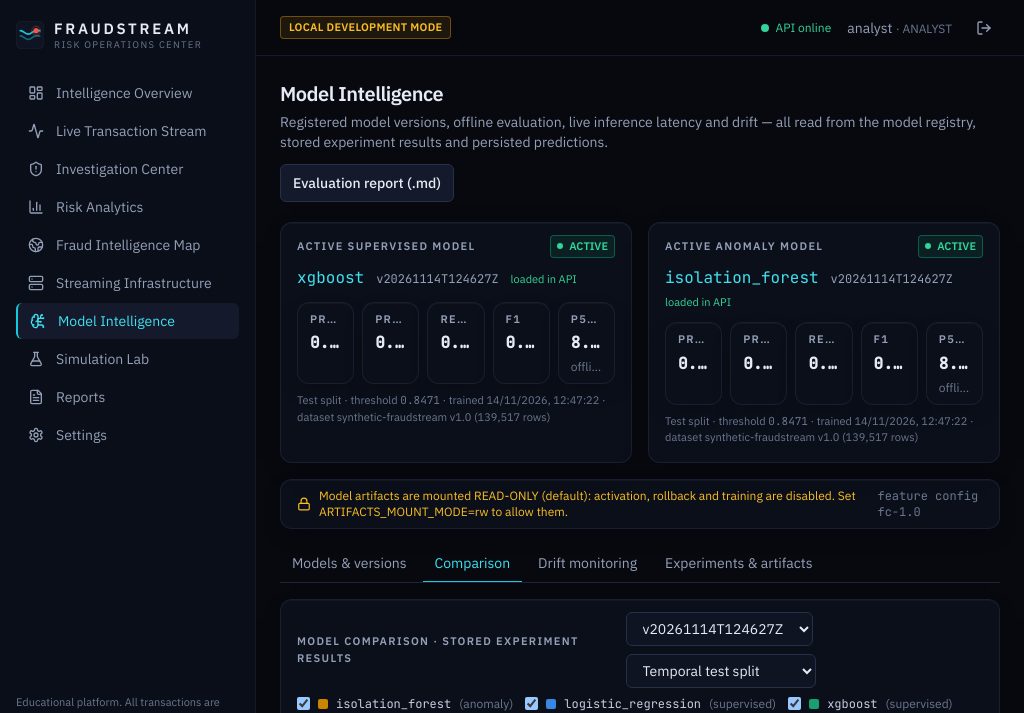
Test: Model Intelligence page › compares models from stored experiment results; toggles and split change work
Step 1. Click the checkbox with test id "compare-toggle-isolation_forest" → (304, 704), box [297,697,310,710]
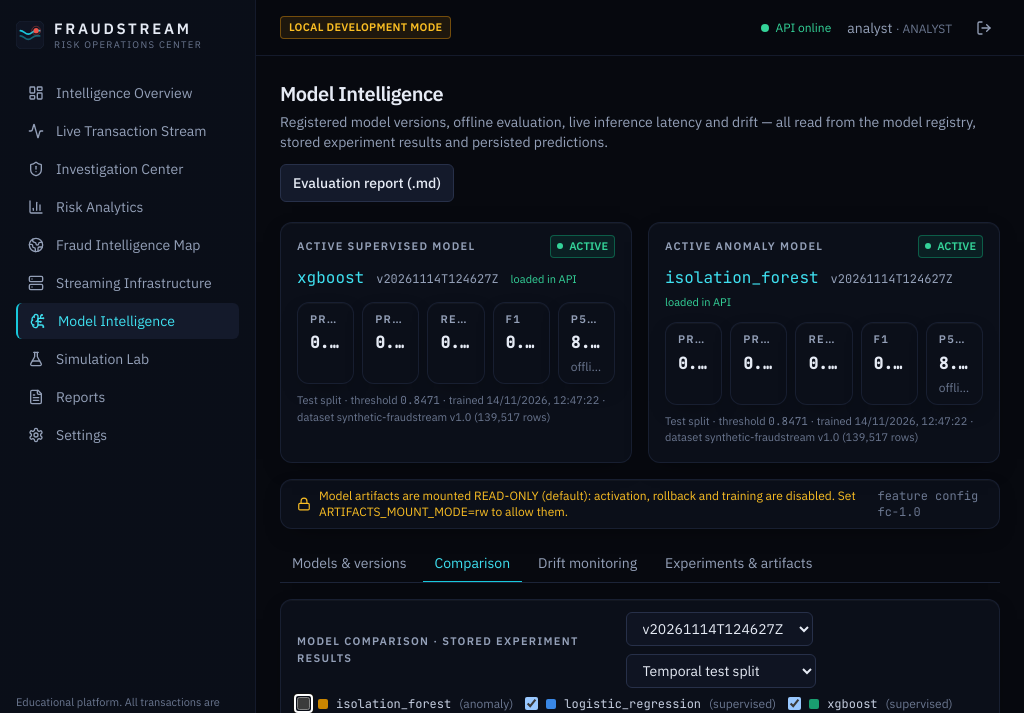
Step 2. Select "Unseen-customer split" in the dropdown with test id "compare-split" → (720, 670), box [626,654,816,688]
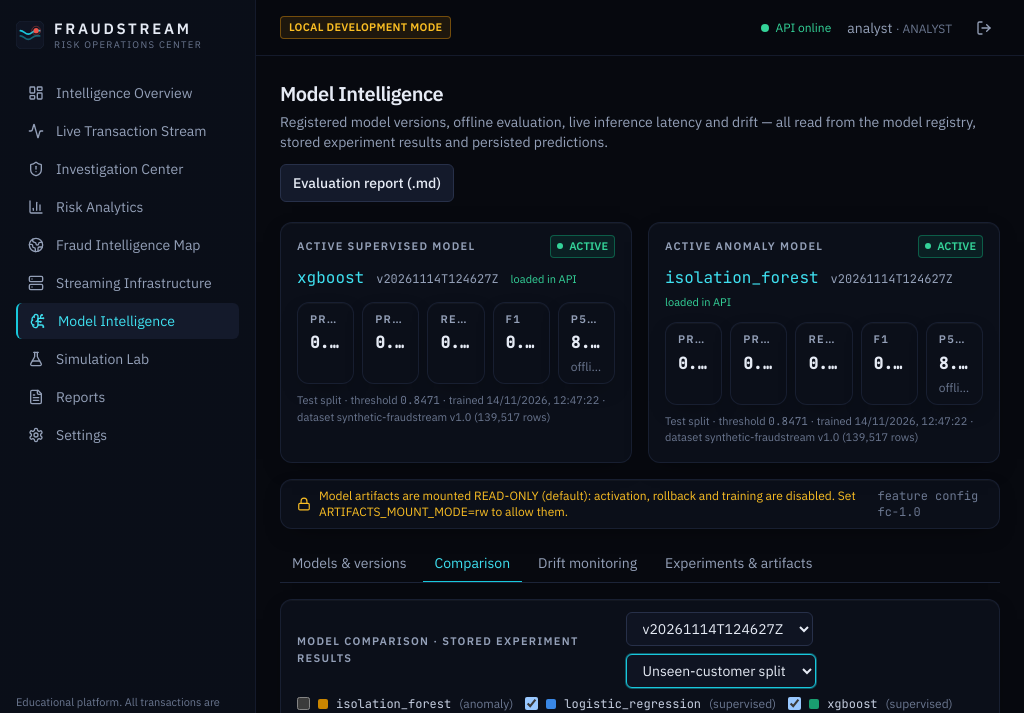
Step 3. Click the checkbox with test id "compare-toggle-xgboost" → (795, 704), box [788,697,801,710]
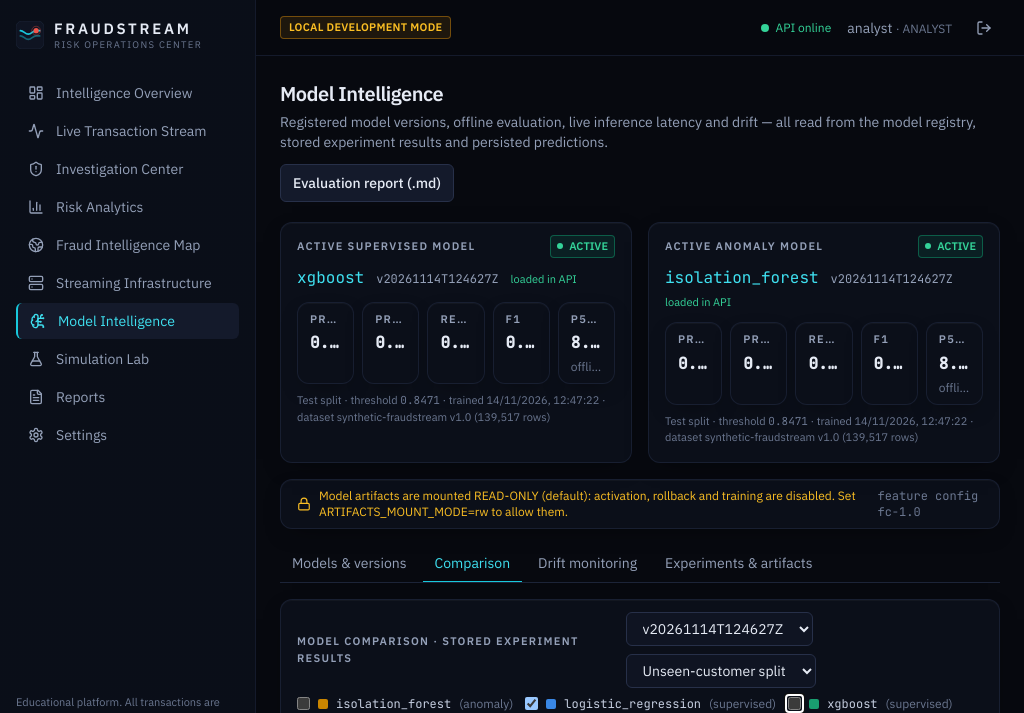
Step 4. Click the checkbox with test id "compare-toggle-logistic_regression" → (532, 704), box [525,697,538,710]
(page scrolled)
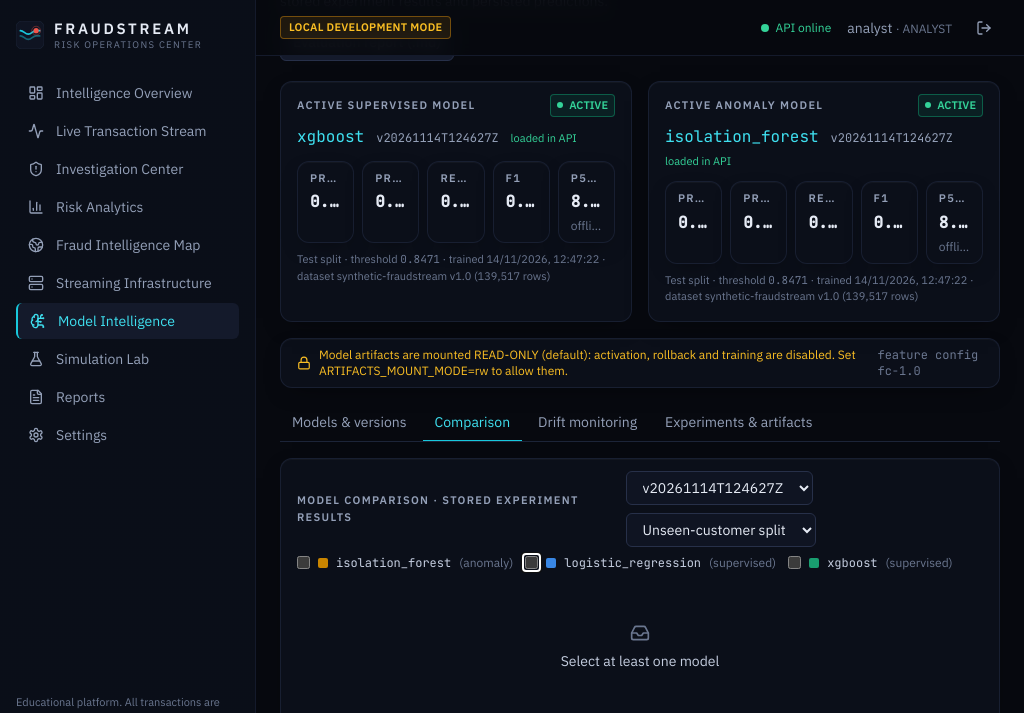
Check: the text "Select at least one model" is shown, box [561,650,719,670]
